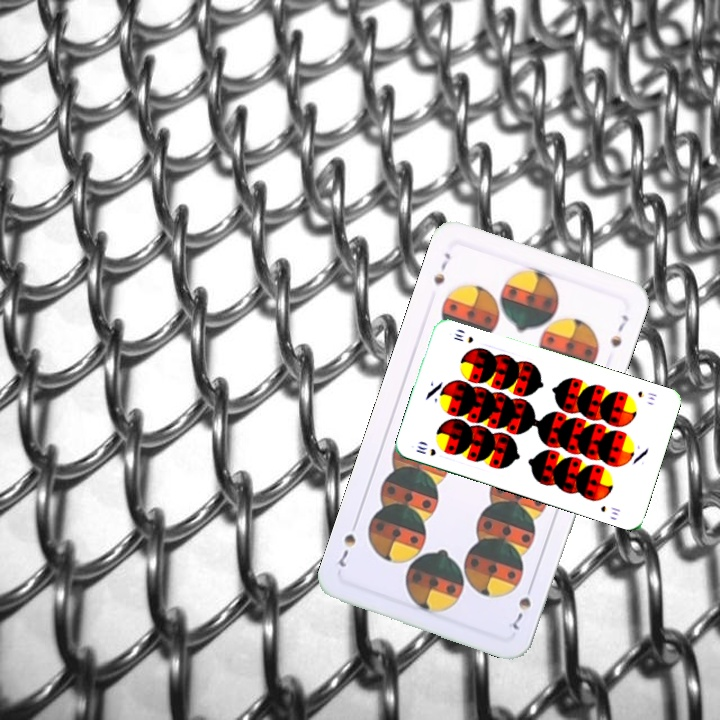S10: (412, 441, 439, 458), (634, 387, 659, 403)
S7: (504, 578, 536, 636), (429, 248, 453, 287)
